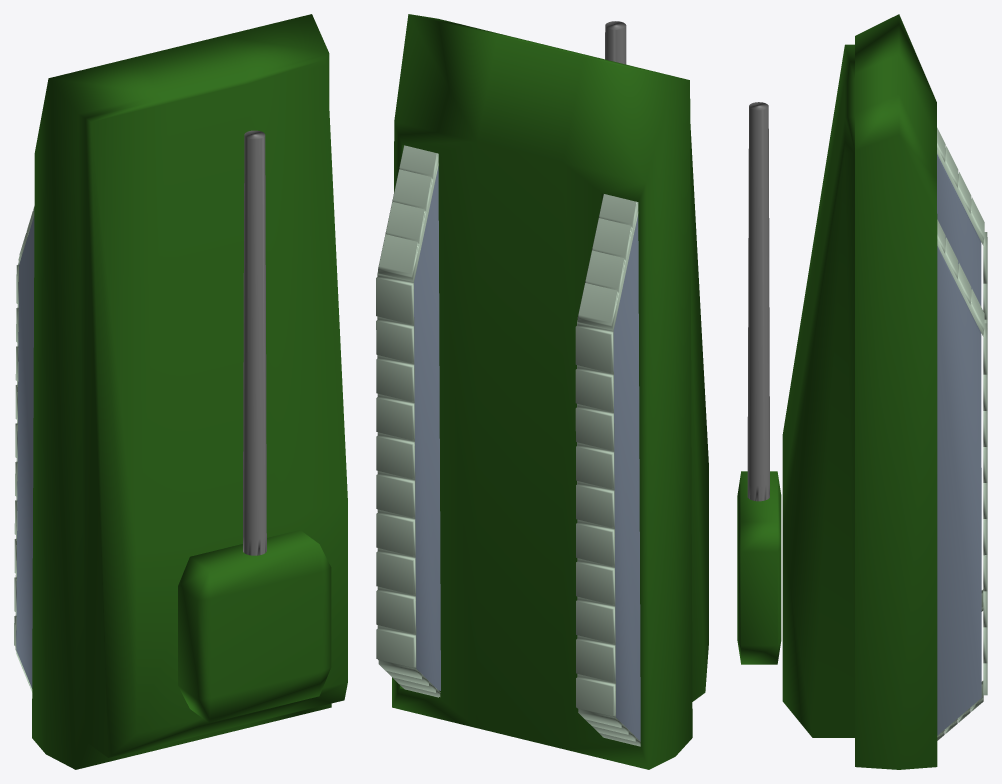
Rendered from tank.fbx.
3 views of the same model, side by side, from view 1: azimuth 30°, elevation 25°; view 2: azimuth 150°, elevation 25°; view 3: azimuth 270°, elevation 25° (orthographic). The views are drawn at different scales.
Parts seen in each view (by area): view 1: 3DSMesh_2, 3DSMesh_1, 3DSMesh_3, 3DSMesh_0; view 2: 3DSMesh_2, 3DSMesh_0, 3DSMesh_3, 3DSMesh_1; view 3: 3DSMesh_2, 3DSMesh_3, 3DSMesh_1, 3DSMesh_0.
Part boxes in pixels (left/top/right/bottom): 3DSMesh_2: left=32, top=14, right=347, bottom=769; 3DSMesh_1: left=243, top=130, right=266, bottom=555; 3DSMesh_3: left=16, top=216, right=34, bottom=688; 3DSMesh_0: left=14, top=206, right=34, bottom=692; 3DSMesh_2: left=392, top=14, right=708, bottom=769; 3DSMesh_0: left=376, top=145, right=640, bottom=746; 3DSMesh_3: left=414, top=166, right=640, bottom=740; 3DSMesh_1: left=605, top=21, right=626, bottom=64; 3DSMesh_2: left=737, top=14, right=937, bottom=769; 3DSMesh_3: left=937, top=154, right=981, bottom=735; 3DSMesh_1: left=747, top=102, right=769, bottom=501; 3DSMesh_0: left=937, top=127, right=987, bottom=740.
Bounding box in the file's own units: 2.1 × 5.04 × 1.8.
